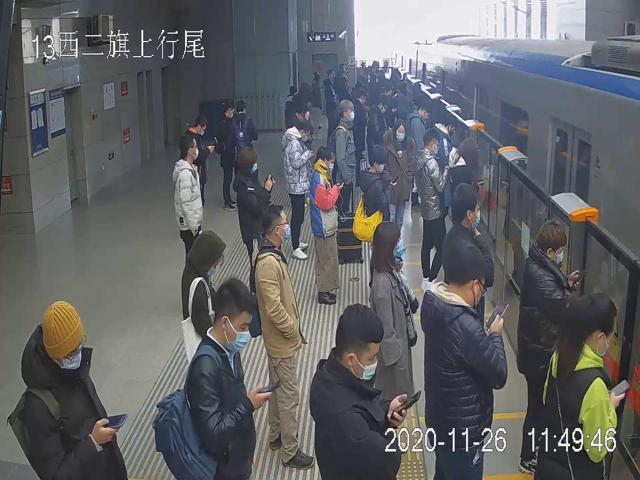person: (10, 298, 130, 480), (423, 241, 508, 480), (309, 303, 409, 480), (534, 290, 625, 480), (190, 277, 272, 480), (516, 218, 581, 470), (256, 206, 316, 472), (369, 221, 419, 432), (173, 133, 207, 328), (232, 147, 274, 296), (416, 128, 450, 291), (309, 146, 343, 305), (357, 144, 394, 286), (381, 117, 416, 259), (282, 119, 314, 261), (331, 98, 357, 215), (215, 99, 238, 212)
